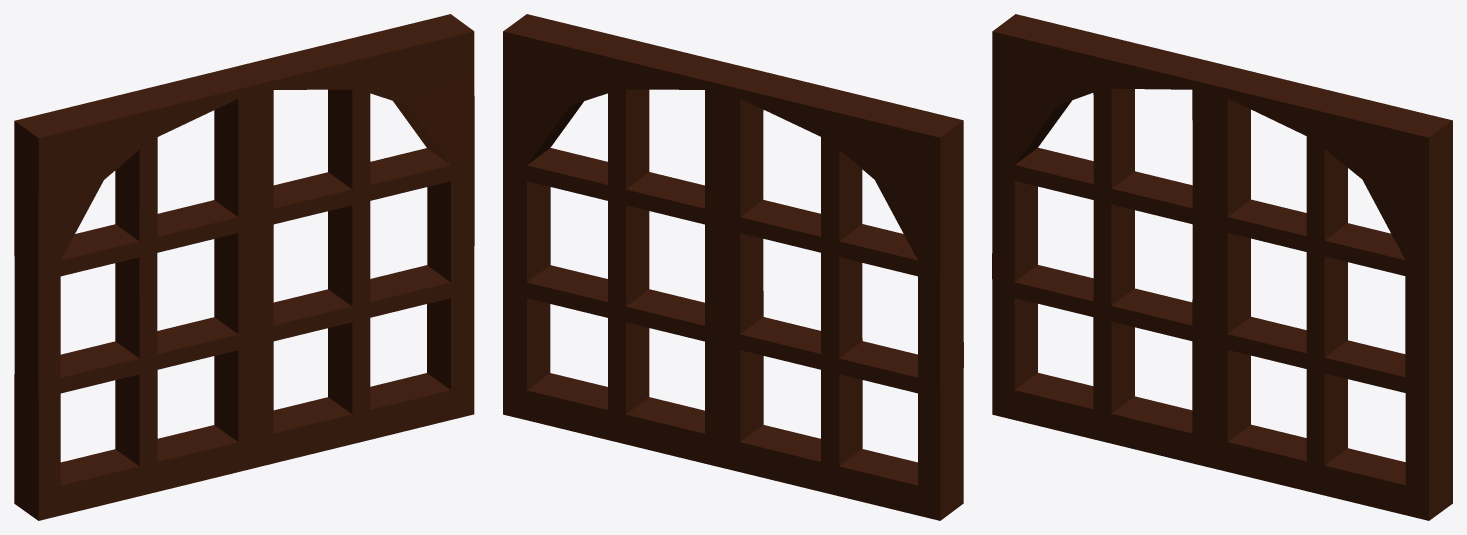
Rendered from Saloon_009_Window.fbx.
3 renders of one model, left to right at view 1: azimuth 30°, elevation 25°; view 2: azimuth 150°, elevation 25°; view 3: azimuth 330°, elevation 25°, orthographic.
Visible parts, largest first — view 1: Saloon_009_Window; view 2: Saloon_009_Window; view 3: Saloon_009_Window.
Part boxes in pixels (bbox=[...]): Saloon_009_Window: bbox=[14, 14, 474, 520]; Saloon_009_Window: bbox=[503, 14, 963, 520]; Saloon_009_Window: bbox=[992, 14, 1452, 520].
Size of the model in its own units: 71.27 by 59.74 by 6.8.
